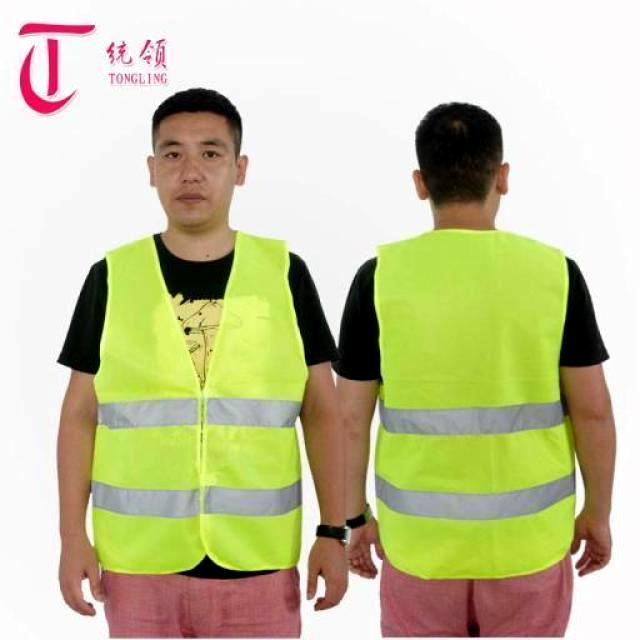no_head_wear: (416, 102, 501, 204), (152, 88, 240, 154)
person: (58, 88, 346, 638), (338, 104, 615, 635)
